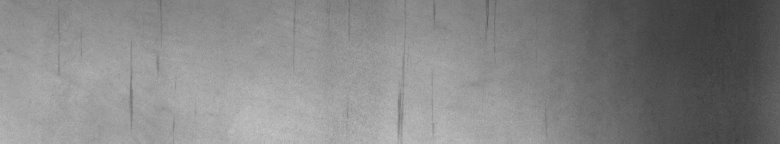ka: (393, 4, 496, 136)
